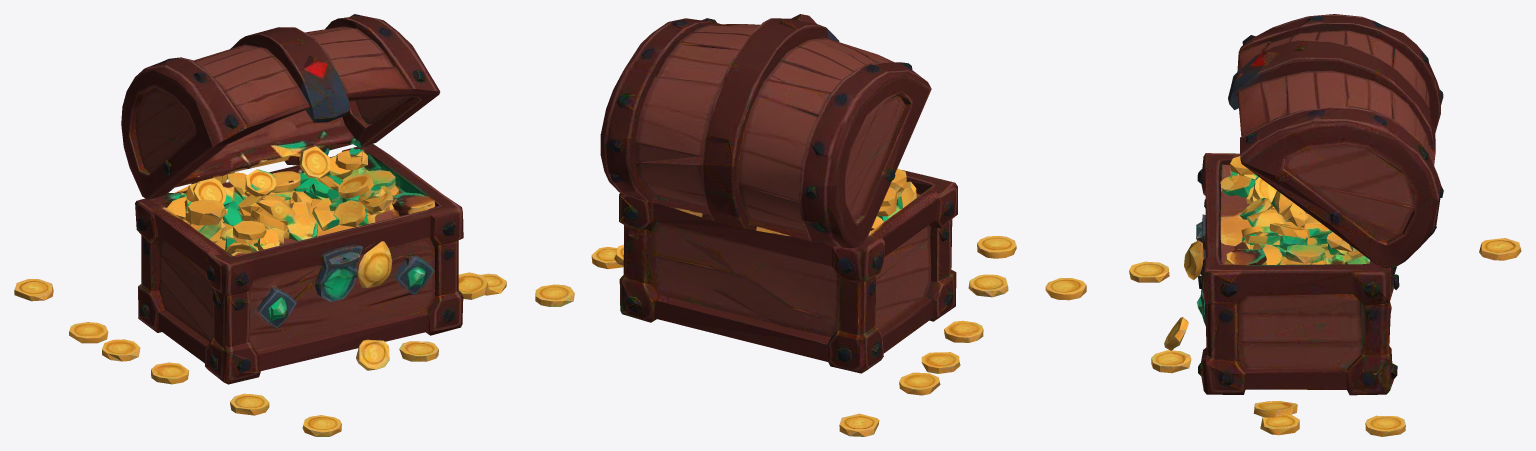
File: chest.glb
3 renders of one model, left to right at view 1: azimuth 30°, elevation 25°; view 2: azimuth 150°, elevation 25°; view 3: azimuth 270°, elevation 25°, orthographic. The views are drawn at different scales.
Bounding box in the file's own units: 1.83 × 1.3 × 1.91.
Materials: 1 (1 with a texture image).
